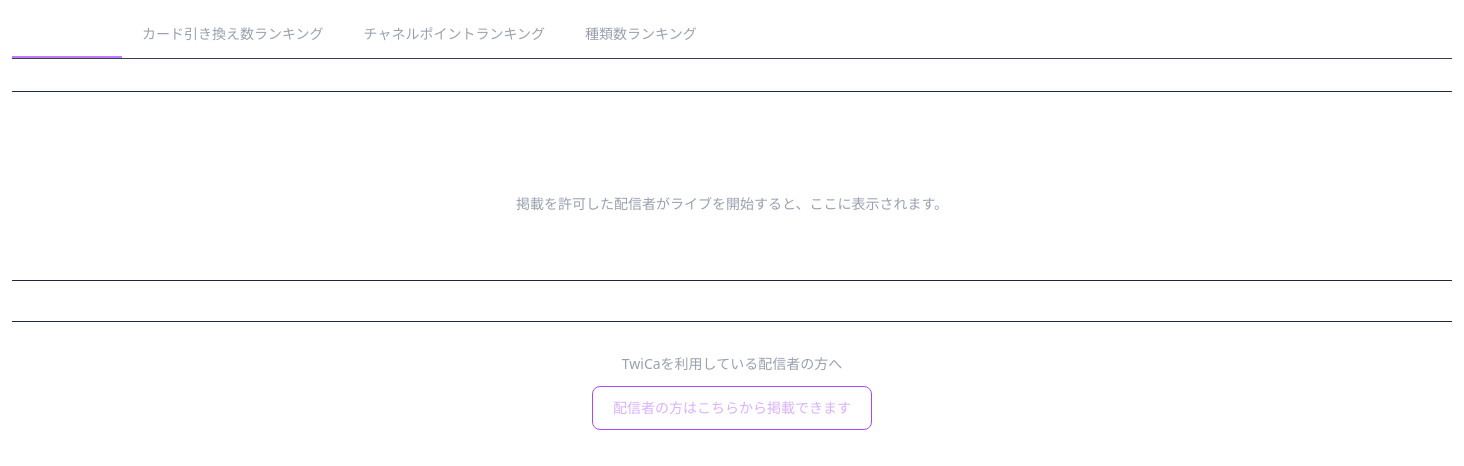
Test: LiveDirectory profile fallback › keeps a non-BMP first character intact in a ranking fallback
The image size is (1464, 466).
Click the tab "カード引き換え数ランキング".
click(233, 35)  # box [122,12,344,58]
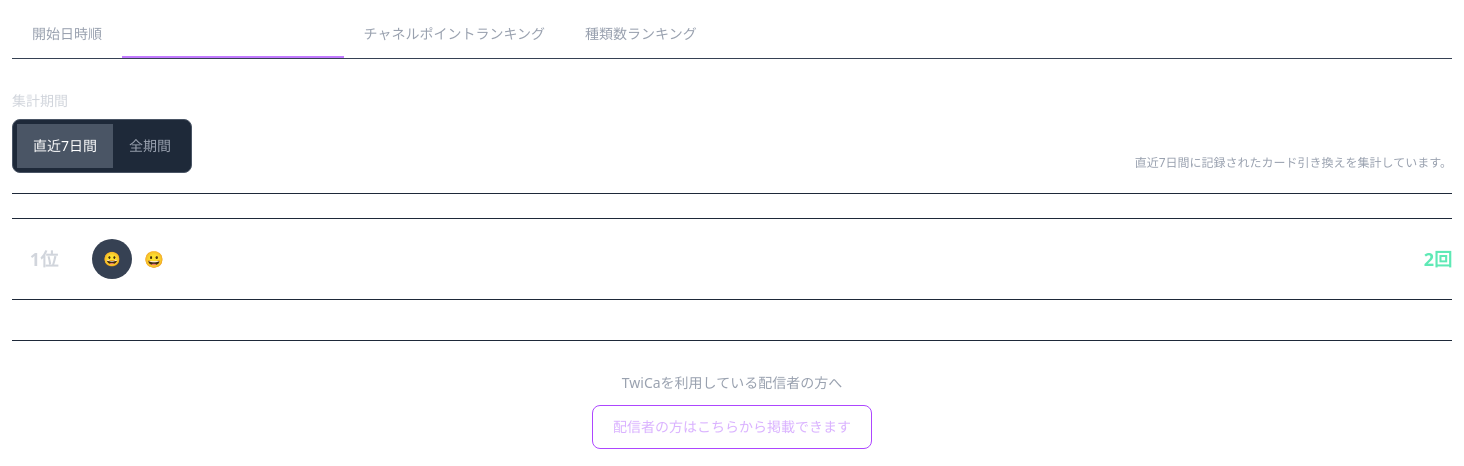
Result: the text "😀" is shown at [92,239,132,279]
